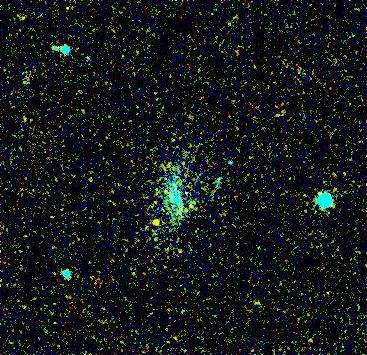star: (143, 209, 173, 239)
